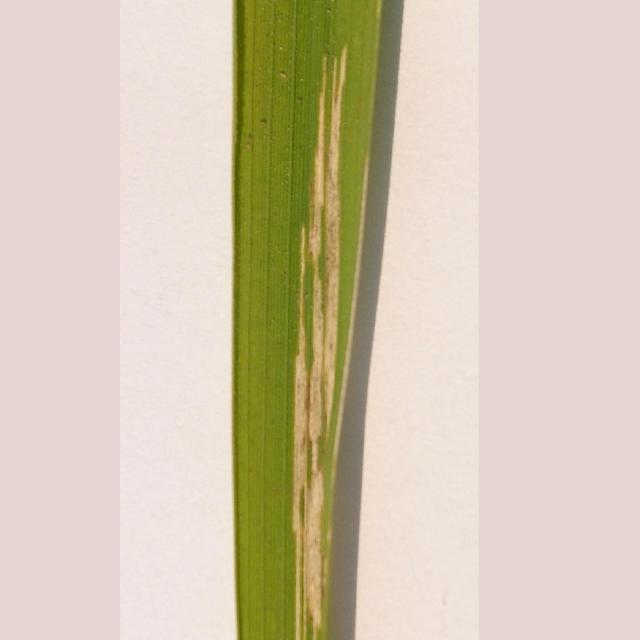leaf blight: (263, 41, 367, 637)
